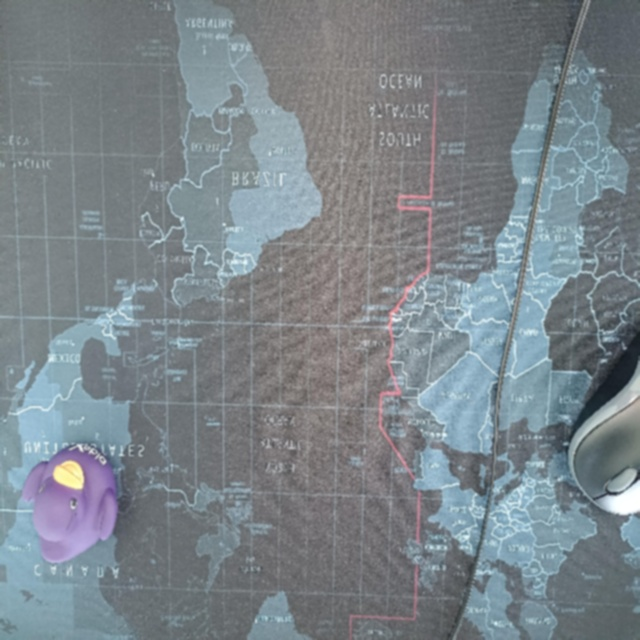led: (110, 260, 235, 480), (220, 360, 245, 575)
